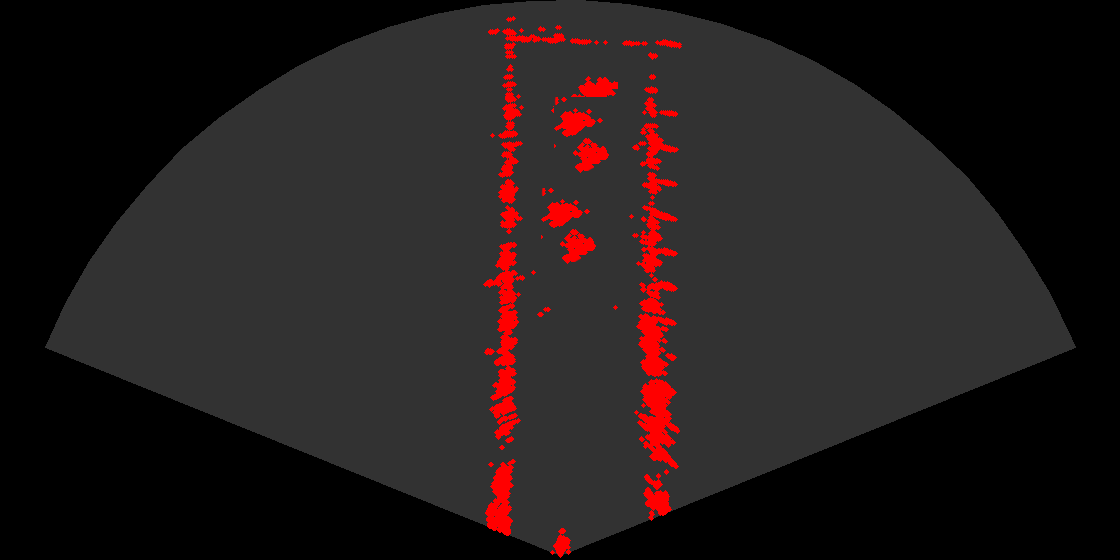cage: (541, 188, 604, 272), (554, 97, 617, 181)
frogman: (550, 70, 618, 117)
